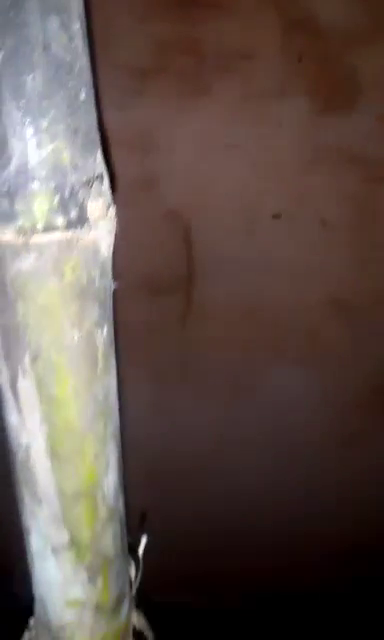cane eye: (77, 185, 117, 234)
